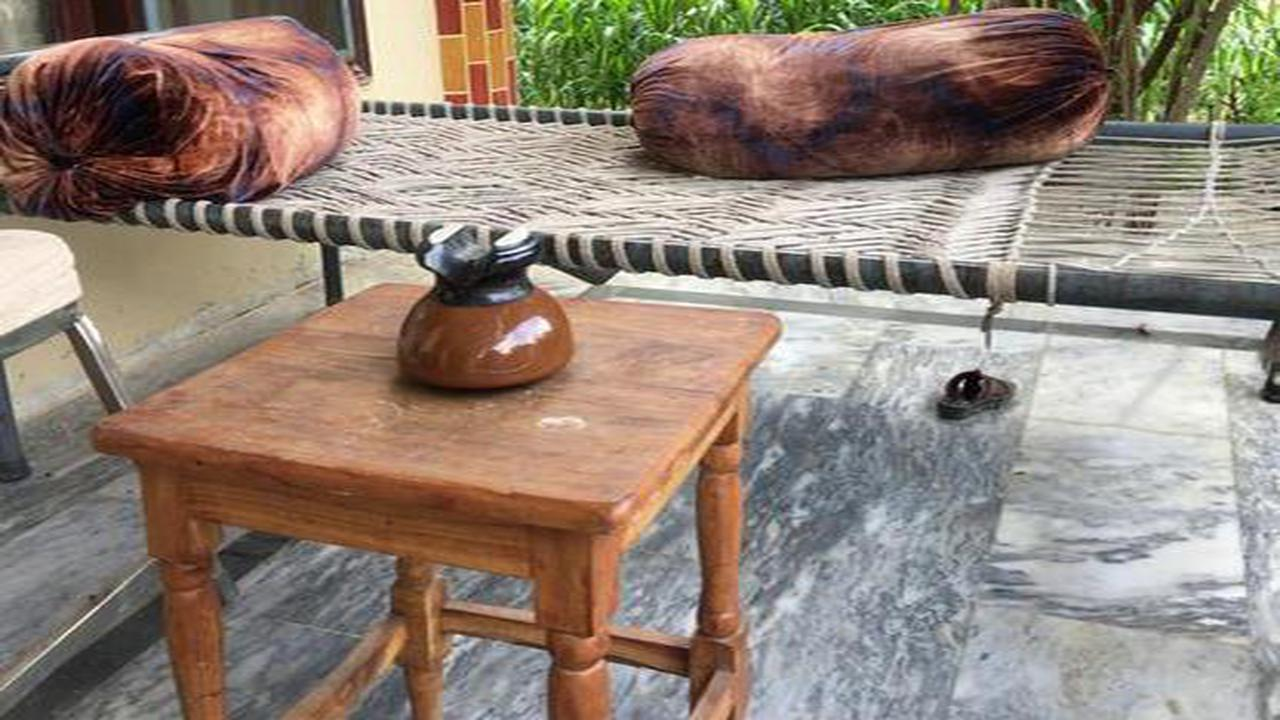insulator_pin: (382, 217, 594, 399)
